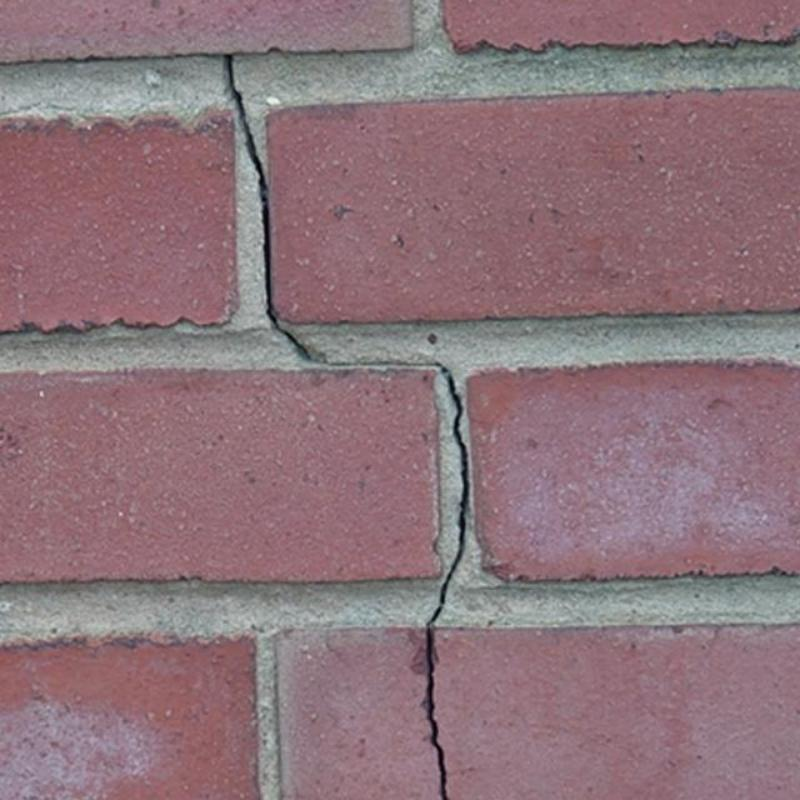crack: (331, 362, 470, 800), (226, 56, 312, 362)
